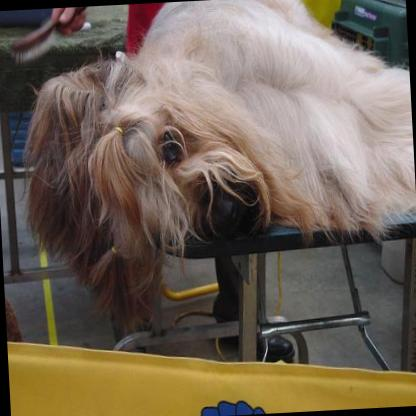briard: (16, 0, 416, 342)
